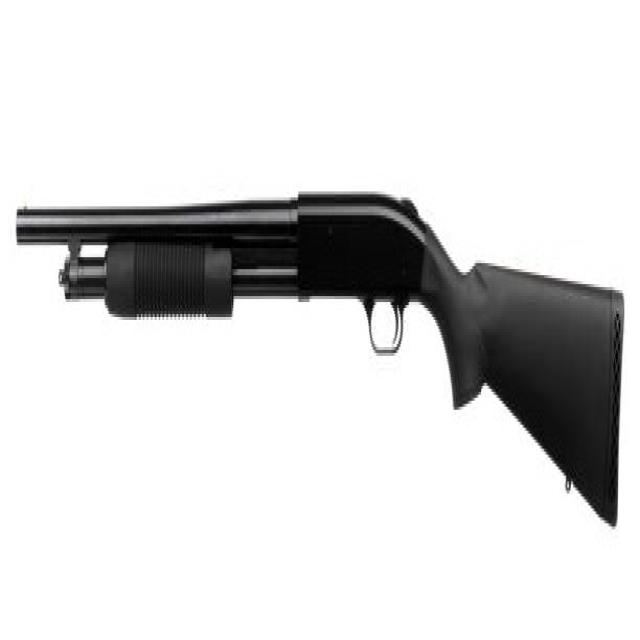rifle: (10, 191, 628, 557)
